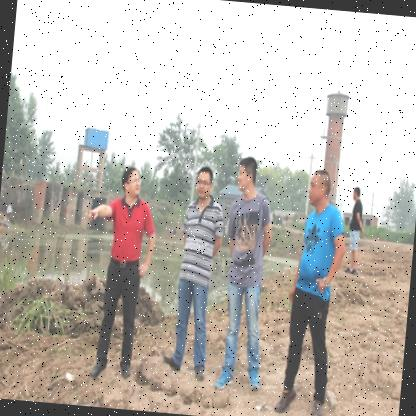sem_capacete: (306, 166, 333, 208), (236, 154, 260, 196), (119, 164, 144, 199), (193, 164, 216, 201), (352, 184, 362, 201)
sem_colete_refletivo: (294, 202, 350, 303), (223, 190, 276, 286), (176, 194, 228, 288), (104, 193, 157, 269), (348, 199, 366, 234)
